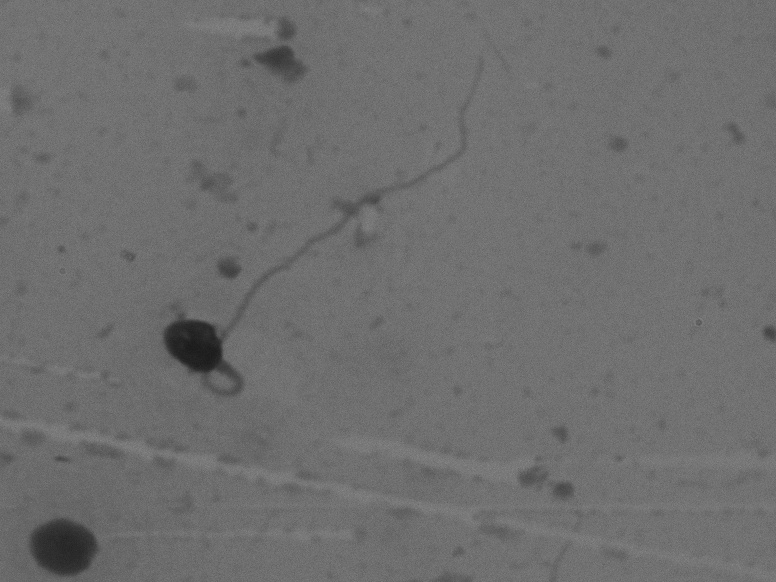Abnormal: (103, 50, 541, 420)
